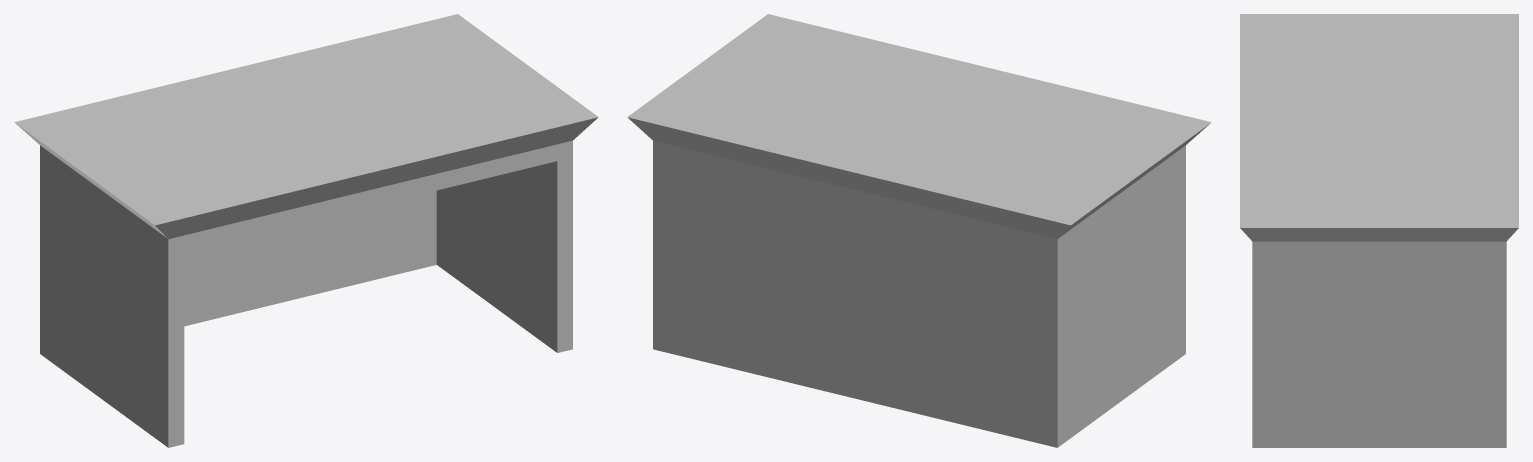
File: Itr_Wardrobe2_Body3_06.FBX
The picture shows the model from 3 angles, left to right: view 1: azimuth 30°, elevation 25°; view 2: azimuth 150°, elevation 25°; view 3: azimuth 270°, elevation 25°; orthographic projection.
Parts seen in each view (by area): view 1: Itr_Wardrobe2_Body3_06; view 2: Itr_Wardrobe2_Body3_06; view 3: Itr_Wardrobe2_Body3_06.
Boxes of the visible parts, x1,y1,x2,y2 form: Itr_Wardrobe2_Body3_06: (14, 14, 598, 447); Itr_Wardrobe2_Body3_06: (627, 14, 1211, 447); Itr_Wardrobe2_Body3_06: (1240, 14, 1518, 447).
Bounding box in the file's own units: 42.93 × 21.44 × 23.62.
